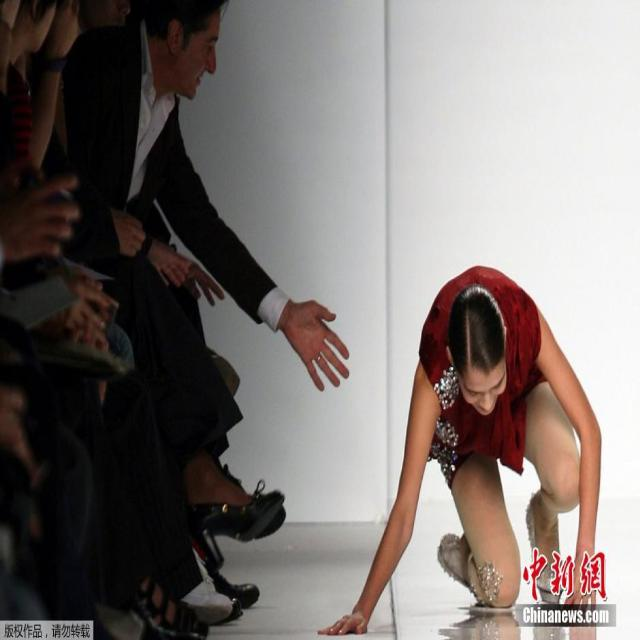10-: (2, 0, 633, 636)
down: (312, 252, 620, 635)
